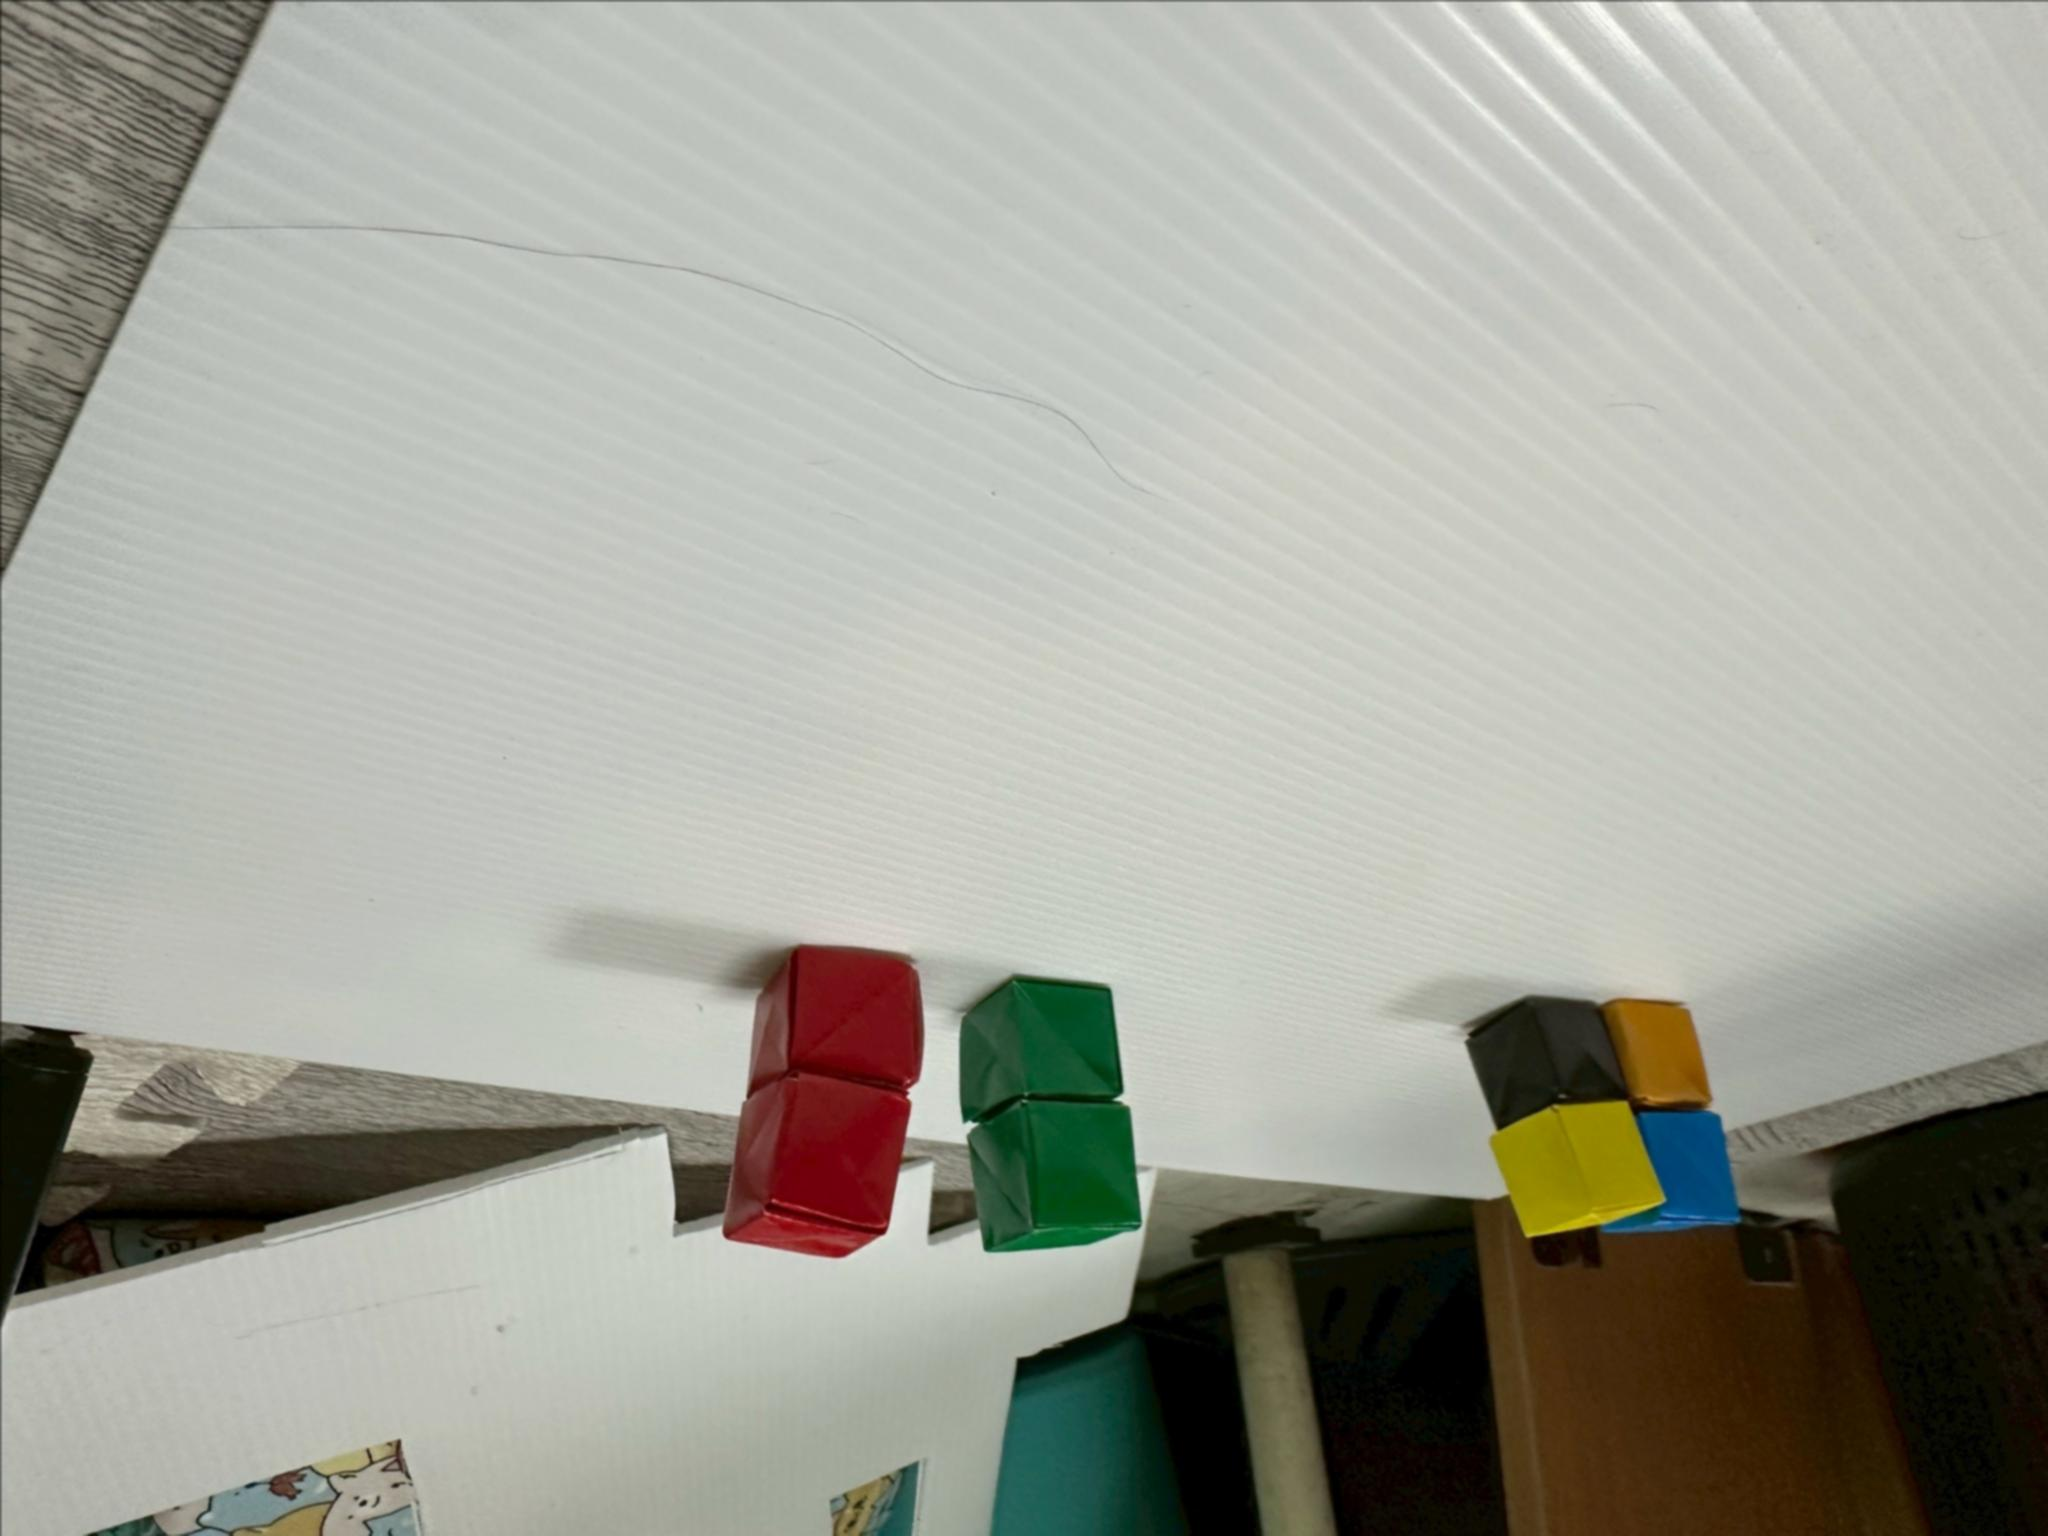base: (724, 1073, 908, 1257), (748, 945, 922, 1096), (969, 1099, 1140, 1249), (959, 978, 1122, 1121), (1492, 1100, 1663, 1236), (1464, 995, 1627, 1128), (1601, 1110, 1740, 1231), (1600, 999, 1711, 1108)
